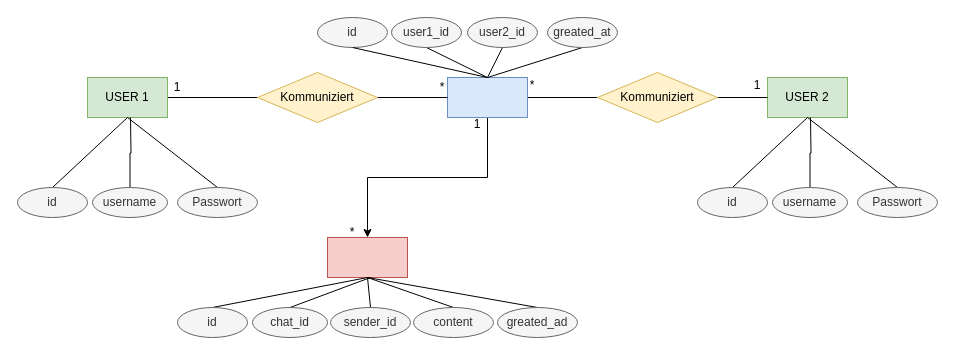
Some shapes in this 955 by 355 pixel diagram are drawn without their labels. Each missing label, with the box of its shape:
CHAT: (446, 76, 528, 118)
Massage: (326, 236, 408, 278)
